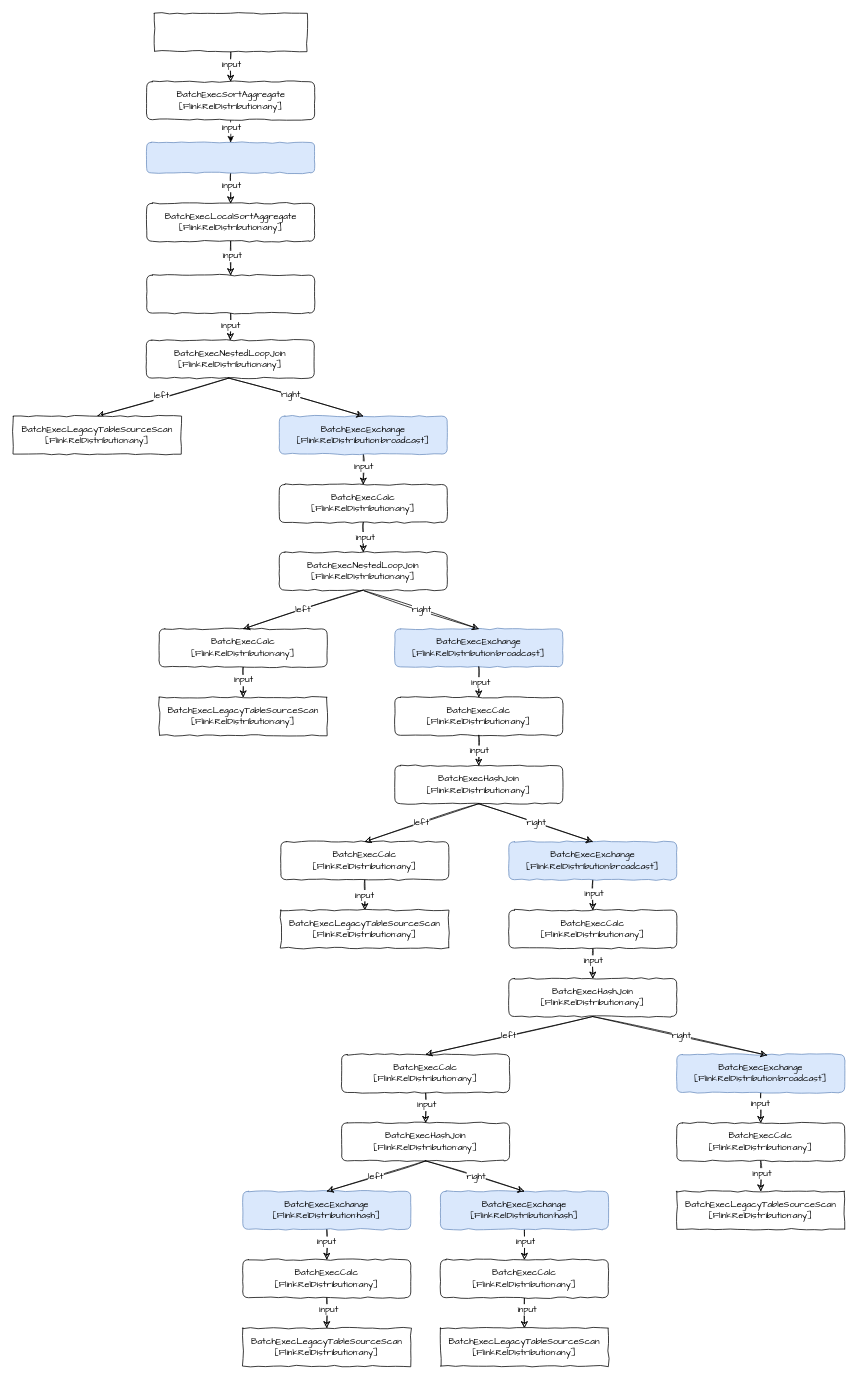
Image size: 858x1379. Some labels were removed from this diagram. Each missing label, with the box of its shape:
BatchExecCalc [FlinkRelDistribution:any]: (146, 274, 315, 313)
BatchExecExchange [ FlinkRelDistribution:single ]: (146, 142, 315, 173)
BatchExecLegacySink [FlinkRelDistribution:any]: (154, 13, 307, 51)
